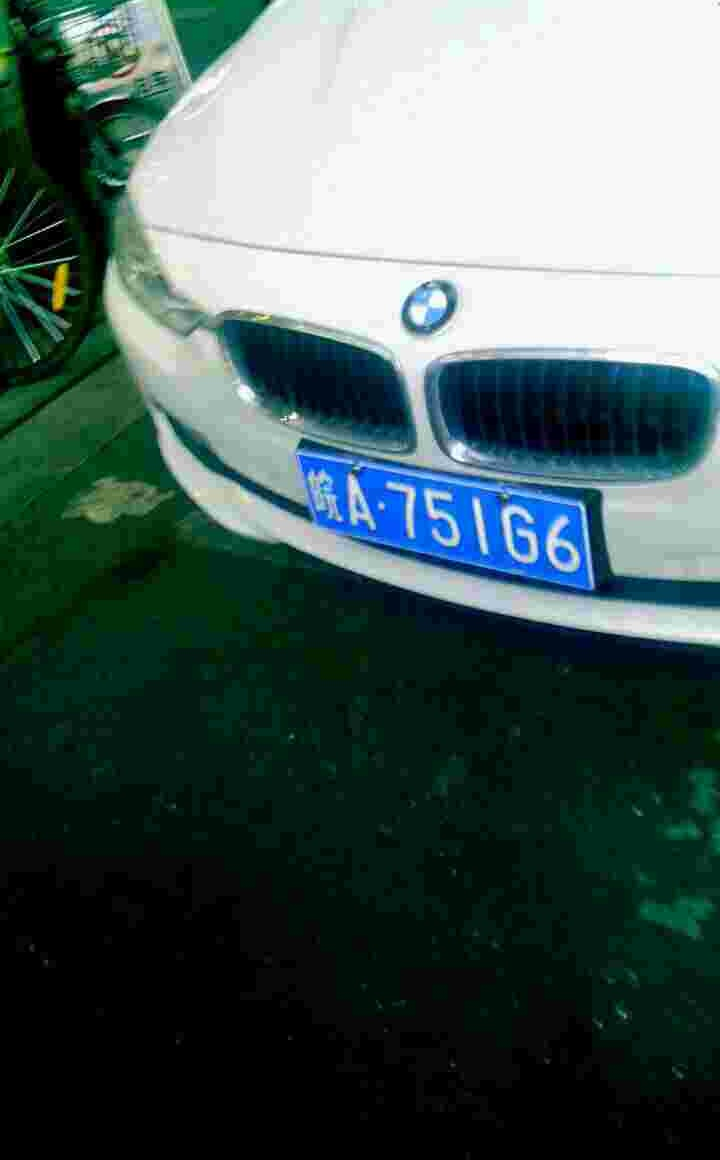license_plate: (299, 449, 590, 589)
